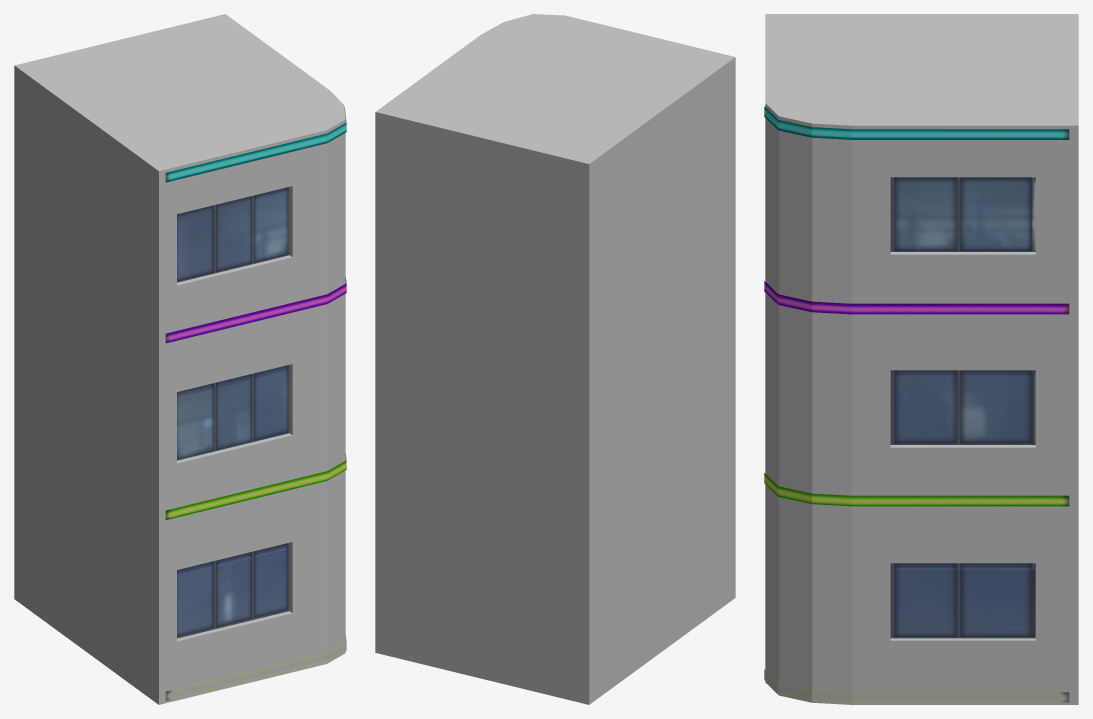
The model's file is bldg_mall_10_d02.fbx.
The picture shows the model from 3 angles, left to right: view 1: azimuth 30°, elevation 25°; view 2: azimuth 150°, elevation 25°; view 3: azimuth 270°, elevation 25°; orthographic projection. The views are drawn at different scales.
Parts seen in each view (by area): view 1: bldg_mall_10_d02; view 2: bldg_mall_10_d02; view 3: bldg_mall_10_d02.
Boxes of the visible parts, bbox=[...] form: bldg_mall_10_d02: bbox=[14, 14, 346, 704]; bldg_mall_10_d02: bbox=[375, 14, 735, 704]; bldg_mall_10_d02: bbox=[764, 14, 1078, 704].
Size of the model in its own units: 3.6 by 8.67 by 4.26.
